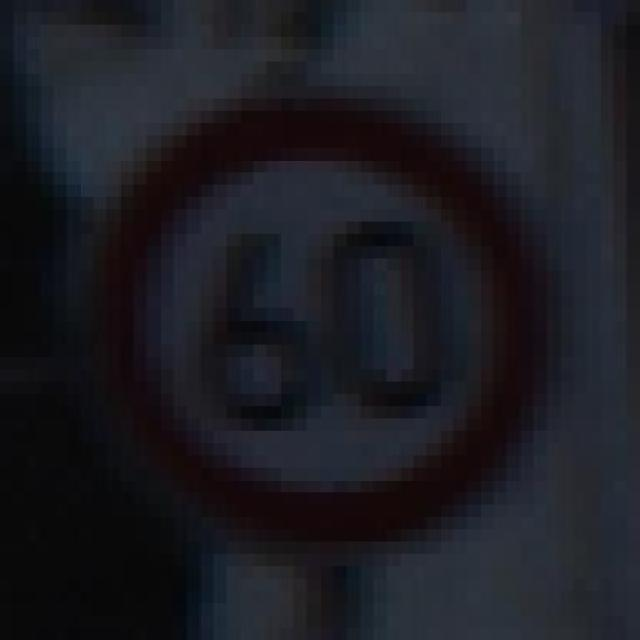forb_speed_over_60: (98, 104, 539, 547)
